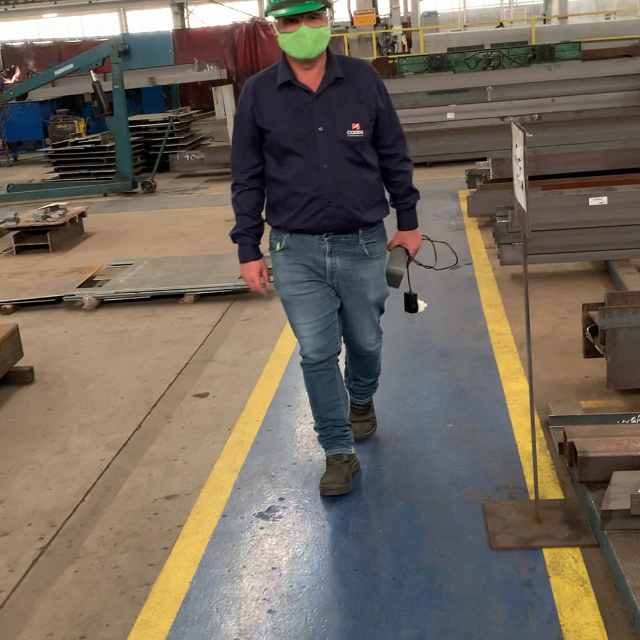eye-glass: (275, 17, 328, 30)
helmet: (259, 1, 329, 15)
mask: (276, 26, 334, 57)
safety-shoe: (240, 3, 426, 500), (319, 450, 361, 497), (349, 400, 378, 442)
